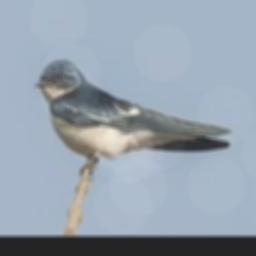Swallow: (35, 59, 231, 170)
